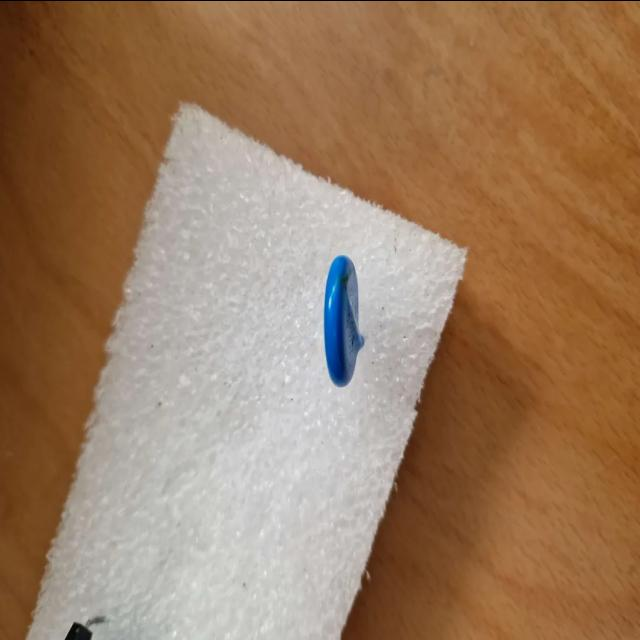E: (324, 255, 364, 384)
